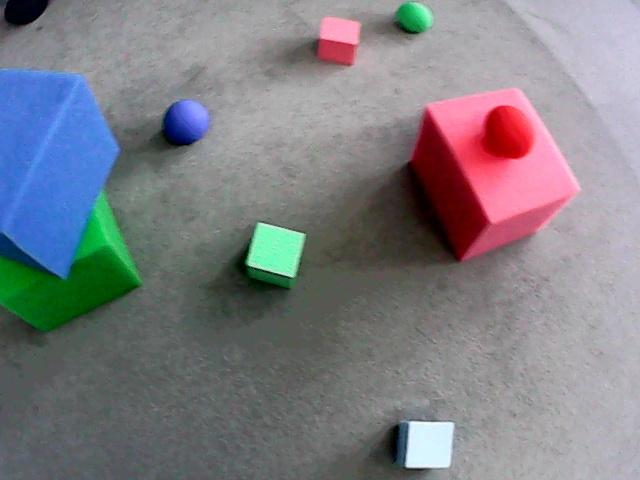blue_block: (0, 70, 119, 277), (396, 421, 454, 468), (0, 235, 41, 268), (4, 0, 48, 25), (396, 421, 408, 465)
red_block: (410, 89, 579, 260), (317, 17, 360, 64)
